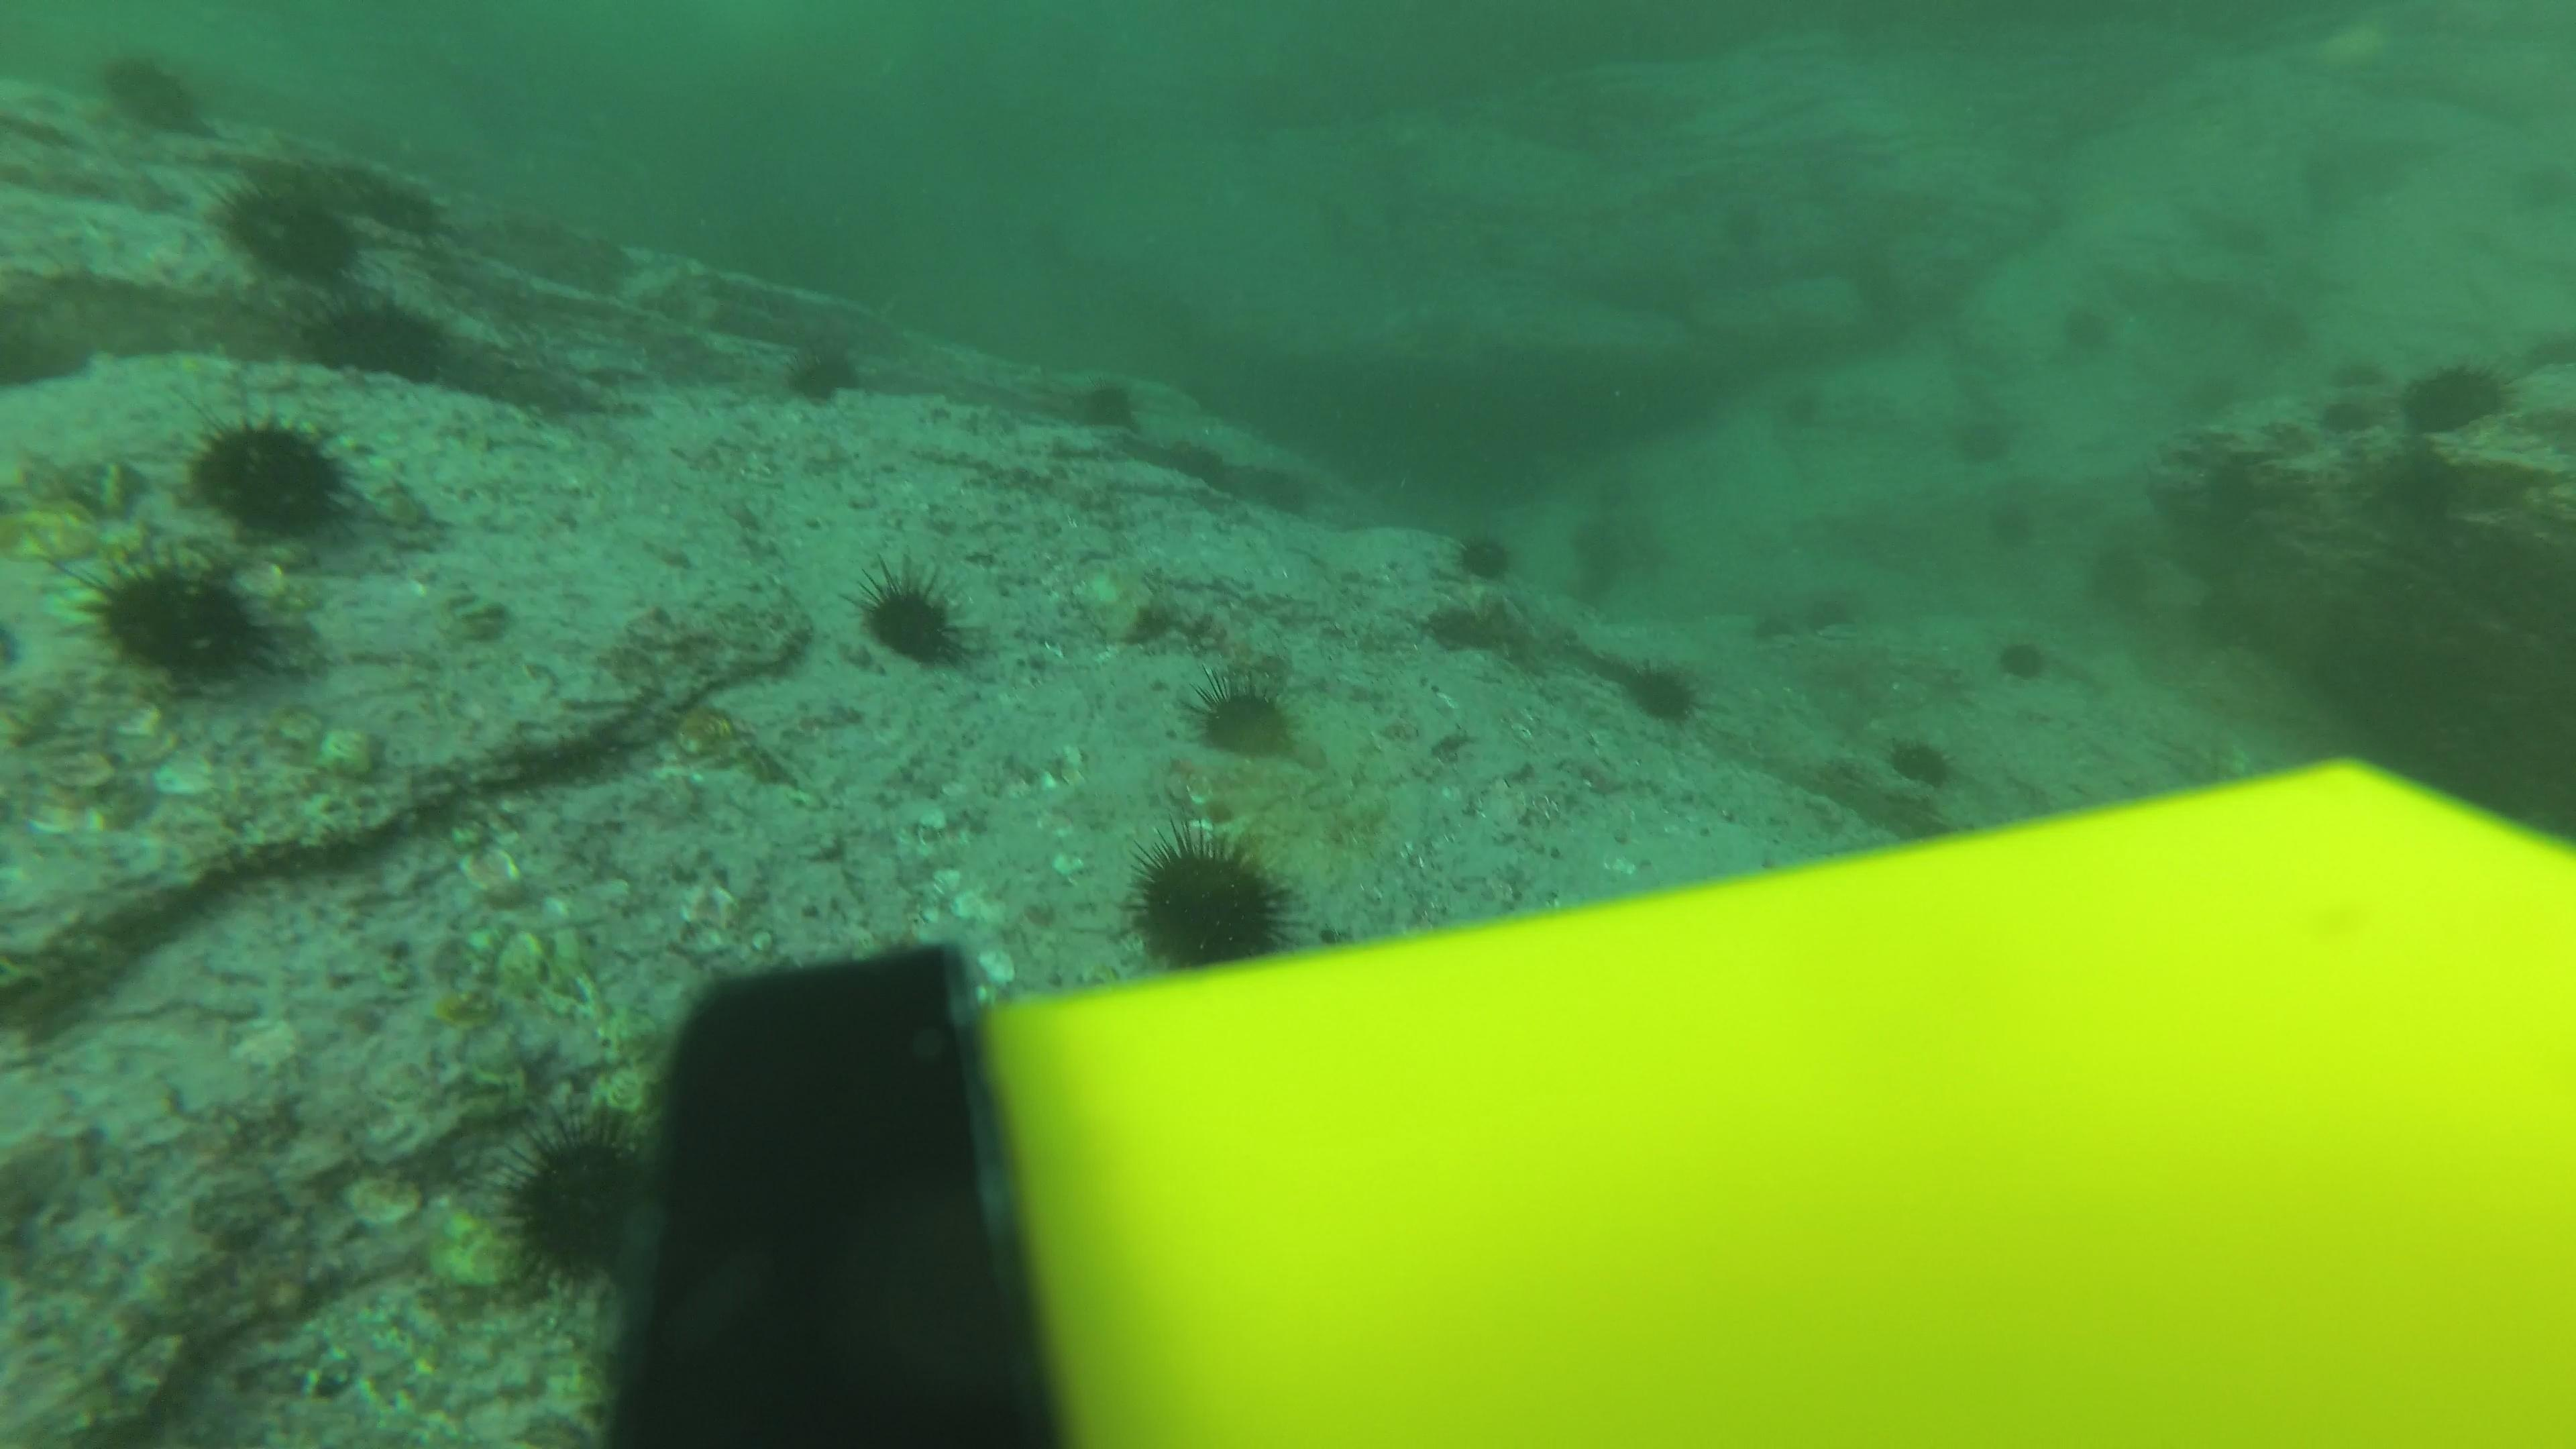echinus: (494, 1108, 658, 1290), (78, 550, 278, 694), (1122, 826, 1299, 971), (184, 407, 361, 545), (216, 170, 370, 290), (303, 290, 453, 389), (849, 561, 980, 674), (88, 44, 219, 145), (1182, 667, 1306, 766), (2397, 352, 2516, 441), (1615, 653, 1709, 731), (777, 333, 869, 410), (352, 168, 449, 239), (1704, 191, 1785, 264), (1943, 400, 2022, 472), (2038, 303, 2118, 375), (2082, 538, 2162, 610), (2312, 387, 2392, 460), (2242, 303, 2321, 375), (2185, 350, 2265, 423), (2201, 177, 2281, 249), (2496, 159, 2576, 232), (2321, 350, 2401, 421), (1882, 729, 1960, 794), (1445, 522, 1522, 587), (1072, 373, 1146, 435), (1990, 630, 2054, 686), (1741, 598, 1805, 655), (1980, 502, 2043, 559), (1568, 556, 1631, 612), (1585, 469, 1649, 525), (1803, 591, 1865, 648), (1776, 384, 1838, 441), (1557, 508, 1619, 564)
